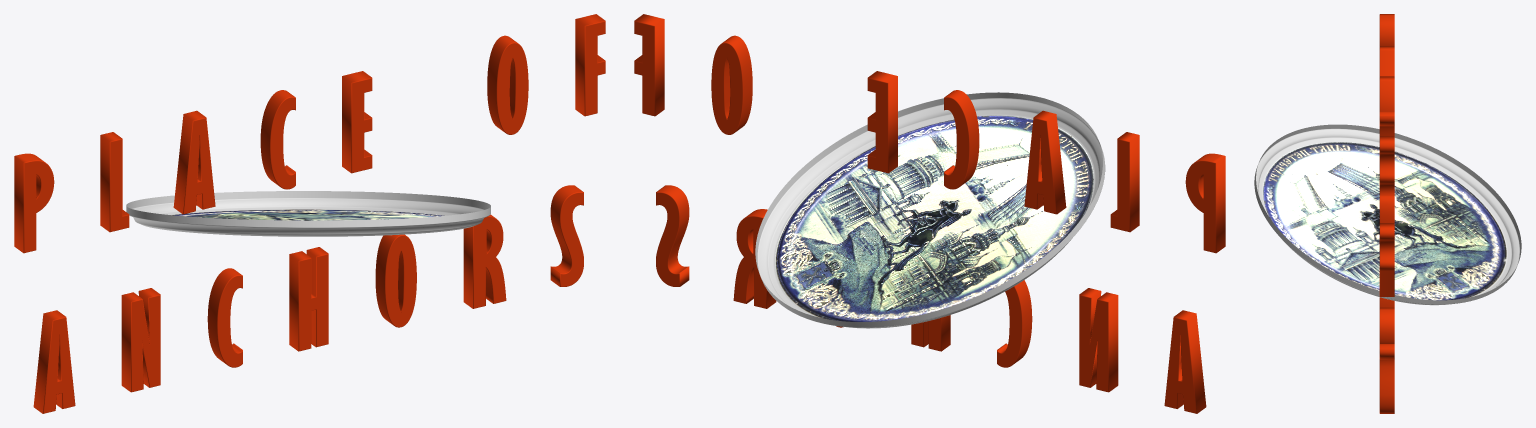
The model's file is Mirror_anim_v7.glb.
The picture shows the model from 3 angles, left to right: view 1: azimuth 30°, elevation 25°; view 2: azimuth 150°, elevation 25°; view 3: azimuth 270°, elevation 25°; orthographic projection. The views are drawn at different scales.
Parts seen in each view (by area): view 1: Text.001, Cylinder.001; view 2: Cylinder.001, Text.001; view 3: Cylinder.001, Text.001.
Boxes of the visible parts, x1,y1,x2,y2 form: Text.001: (14, 14, 605, 413); Cylinder.001: (126, 191, 490, 236); Cylinder.001: (755, 92, 1105, 328); Text.001: (634, 14, 1225, 413); Cylinder.001: (1254, 124, 1521, 305); Text.001: (1379, 14, 1394, 413).
Size of the model in its own units: 1.33 by 0.5605 by 0.6911.
Materials: 3 (1 with a texture image).
